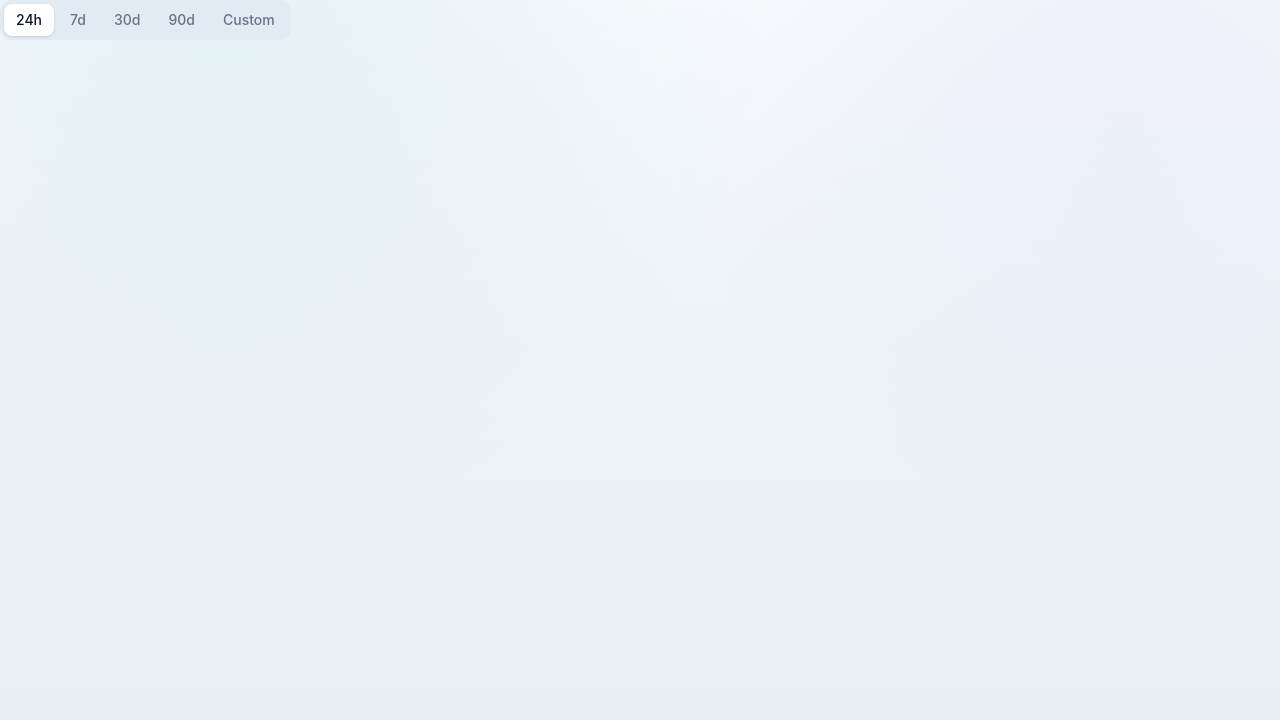
it: TimeRangePicker › rejects a start after the end
Click the button with aria-label "Custom range" at (249, 20), box [211, 4, 287, 36]
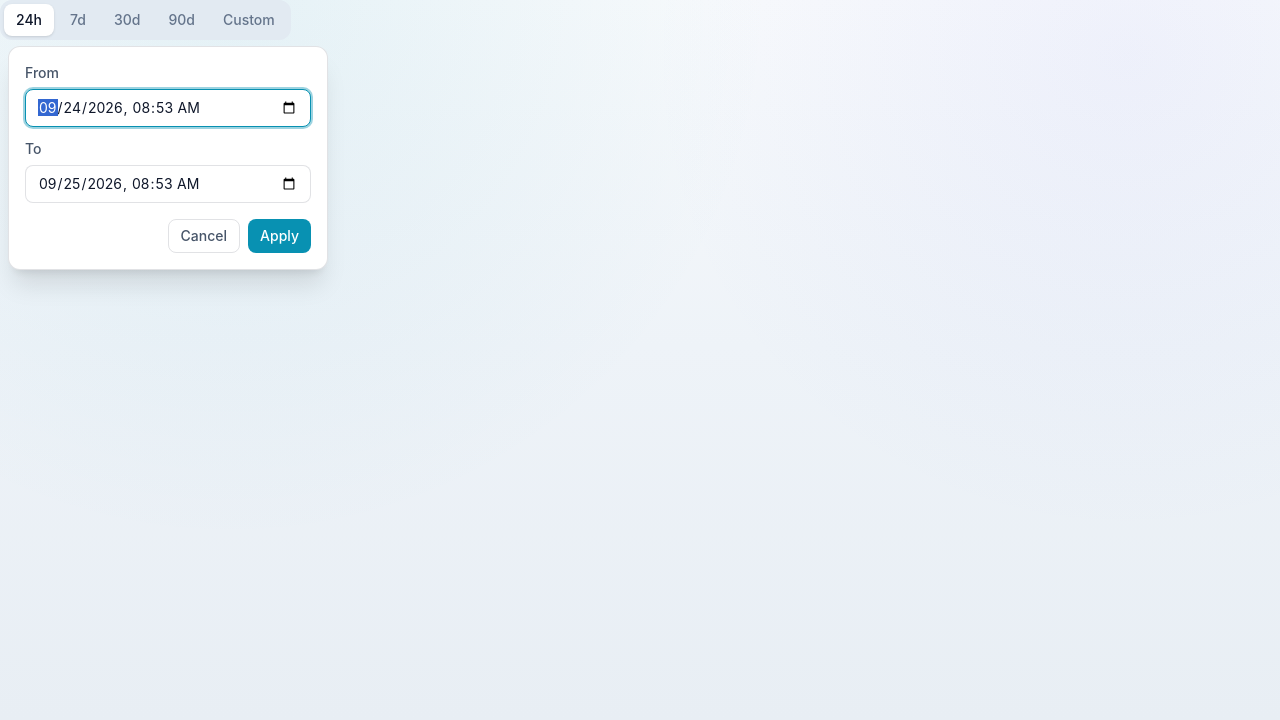
Replace the text in the field labelled "From" with "2026-09-03T10:00" at (168, 108), box [25, 89, 311, 127]
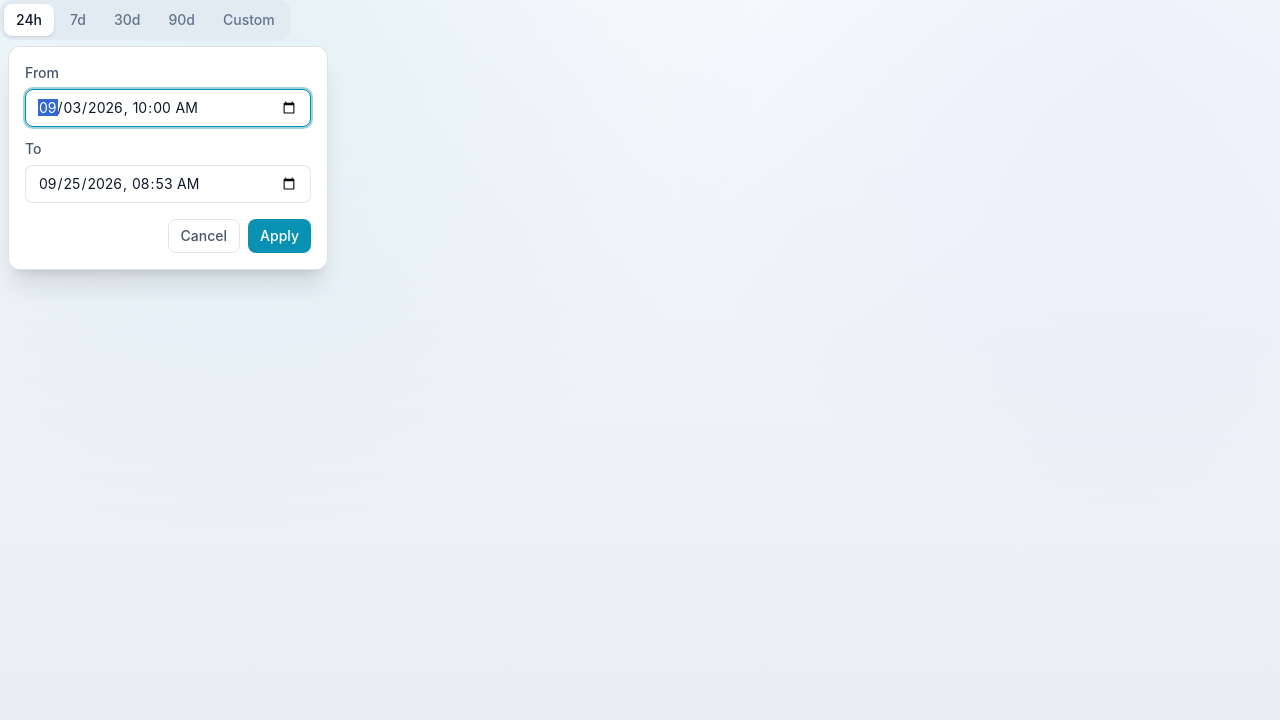
Replace the text in the field labelled "To" with "2026-09-02T10:00" at (168, 184), box [25, 165, 311, 203]
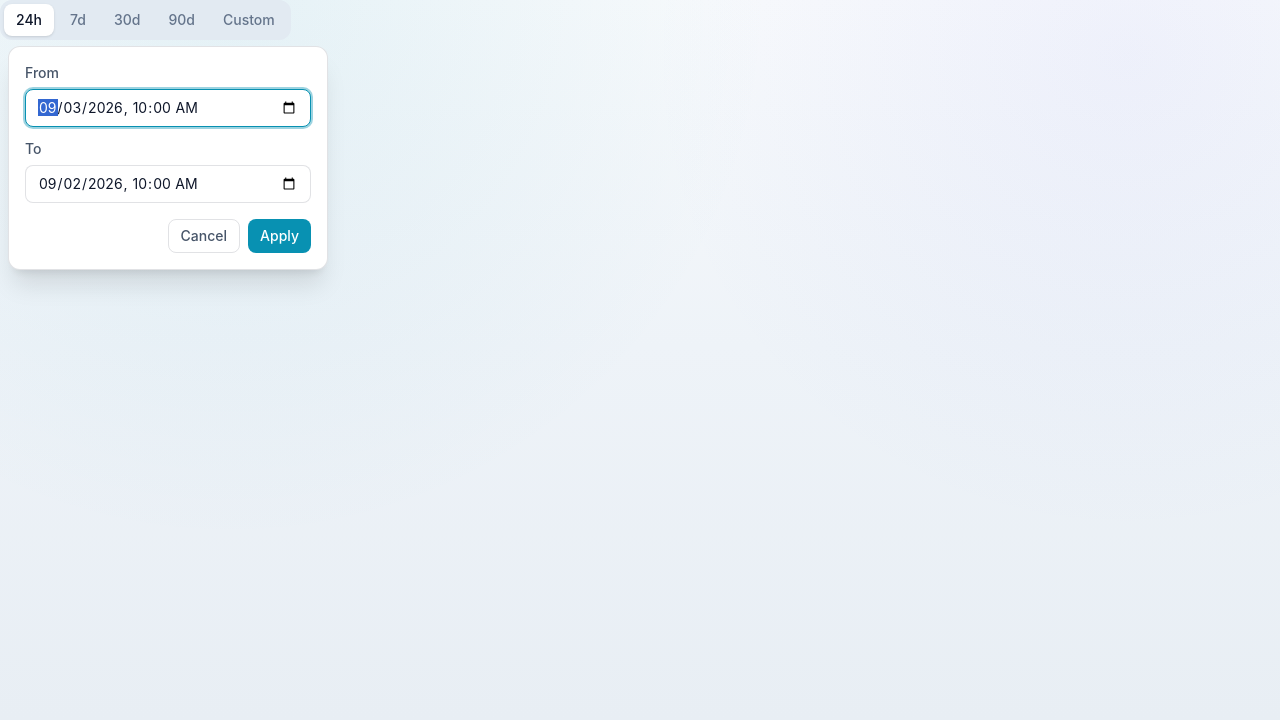
Click the button "Apply" at (280, 236), box [248, 219, 311, 253]
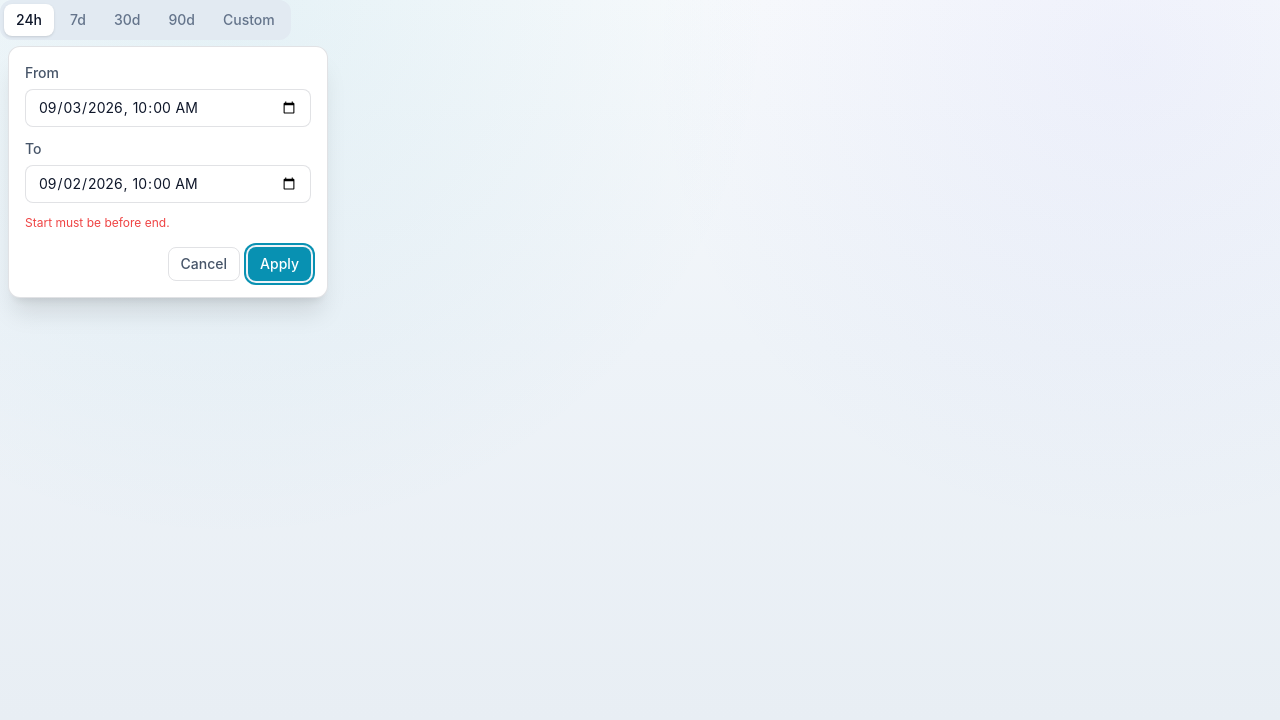
Check: the message reads "Start must be before end.", box [25, 215, 170, 230]
